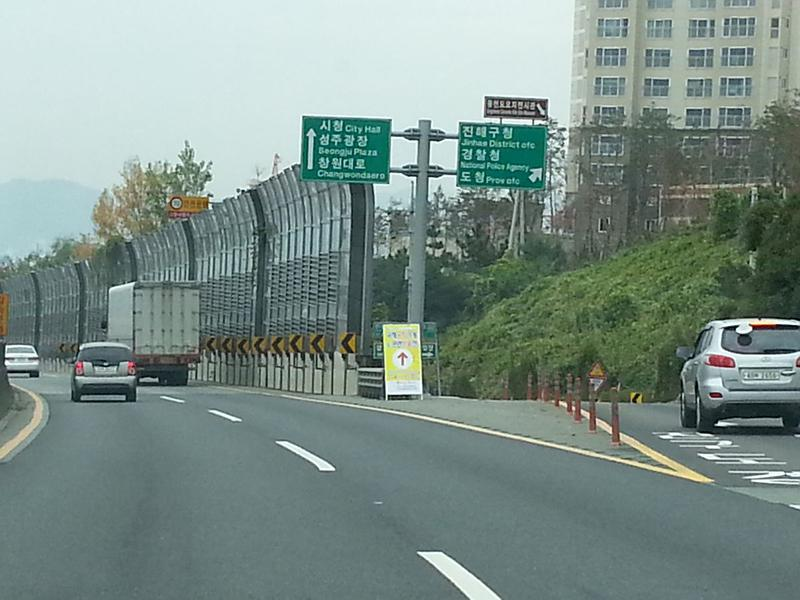car: (675, 317, 800, 427), (73, 343, 137, 401)
lane: (280, 440, 332, 470), (210, 410, 243, 422)
